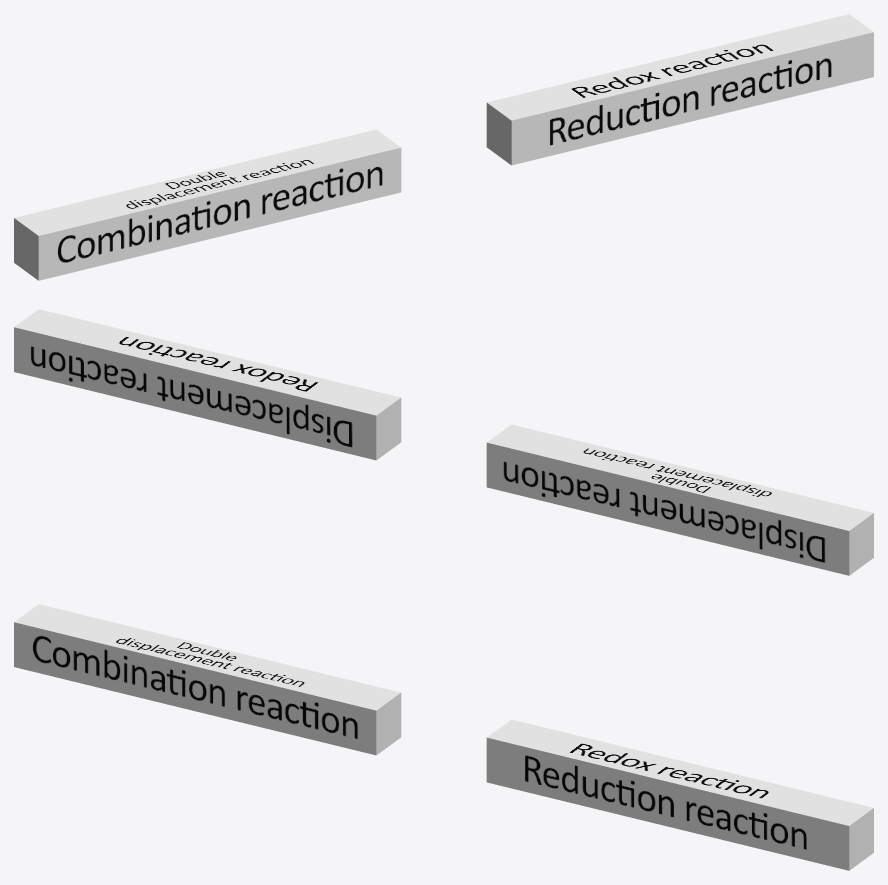
Rendered from small boxs.fbx.
3 renders of one model, top to bottom at view 1: azimuth 30°, elevation 25°; view 2: azimuth 150°, elevation 25°; view 3: azimuth 330°, elevation 25°, orthographic.
Parts seen in each view (by area): view 1: pCube2, pCube3; view 2: pCube2, pCube3; view 3: pCube2, pCube3.
Boxes of the visible parts, x1,y1,x2,y2 form: pCube2: (14,129,401,280); pCube3: (486,14,873,165); pCube2: (486,424,873,575); pCube3: (14,309,401,460); pCube2: (14,604,401,755); pCube3: (486,719,873,870).
Bounding box in the file's own units: 24.05 × 1.23 × 1.23.
2 materials, 2 textured.
